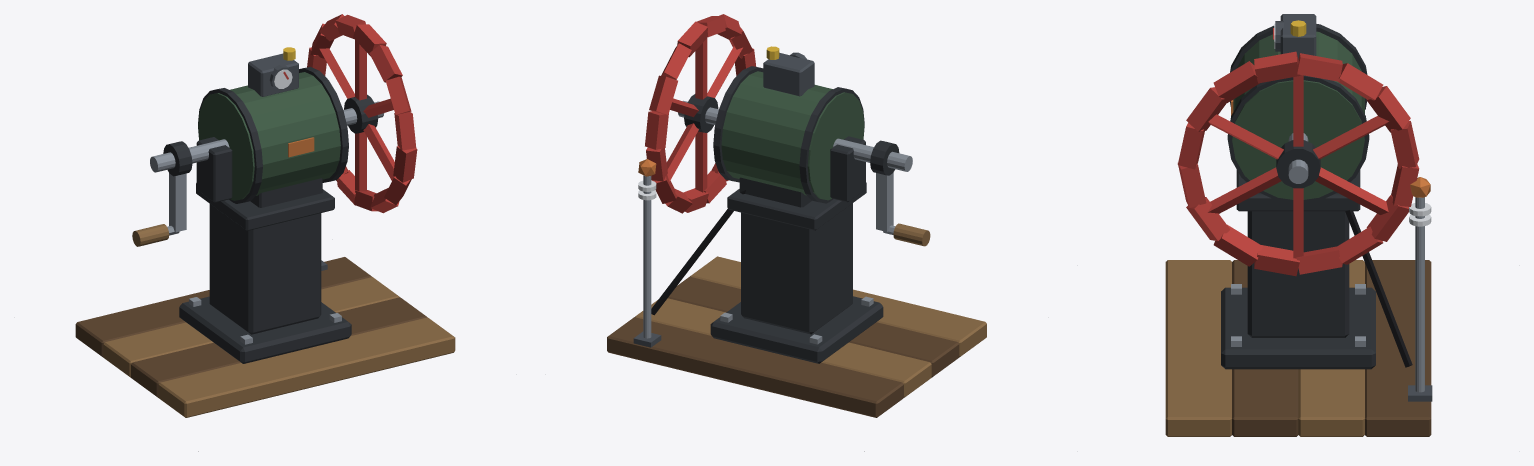
File: manivelle_reamorcage.glb
3 views of the same model, side by side, from view 1: azimuth 30°, elevation 25°; view 2: azimuth 150°, elevation 25°; view 3: azimuth 270°, elevation 25° (orthographic). The views are drawn at different scales.
Parts seen in each view (by area): view 1: pieces_fonte.012, pieces_bois.002, dynamo.002, manivelle_rouge.002, pieces_bois_sombre.004, manivelle_acier.002, manivelle_fonte.002, pieces_acier_sombre.016, manivelle_bois.002; view 2: pieces_fonte.012, pieces_bois_sombre.004, dynamo.002, manivelle_rouge.002, pieces_bois.002, manivelle_acier.002, pieces_acier_sombre.016, pieces_acier.018, manivelle_fonte.002, pieces_noir.014, manivelle_bois.002; view 3: pieces_fonte.012, manivelle_rouge.002, pieces_bois.002, pieces_bois_sombre.004, dynamo.002, pieces_acier.018, pieces_acier_sombre.016, manivelle_fonte.002, pieces_noir.014, manivelle_acier.002, pieces_blanc.018.
Boxes of the visible parts, x1,y1,x2,y2 form: pieces_fonte.012: [179, 67, 351, 363]; pieces_bois.002: [103, 277, 455, 417]; dynamo.002: [198, 72, 340, 200]; manivelle_rouge.002: [307, 14, 417, 213]; pieces_bois_sombre.004: [75, 257, 427, 397]; manivelle_acier.002: [150, 101, 384, 235]; manivelle_fonte.002: [163, 94, 378, 176]; pieces_acier_sombre.016: [248, 53, 327, 270]; manivelle_bois.002: [132, 224, 169, 246]; pieces_fonte.012: [710, 66, 883, 363]; pieces_bois_sombre.004: [607, 276, 959, 417]; dynamo.002: [721, 71, 864, 200]; manivelle_rouge.002: [645, 14, 756, 213]; pieces_bois.002: [635, 256, 986, 397]; manivelle_acier.002: [678, 100, 912, 234]; pieces_acier_sombre.016: [633, 52, 814, 347]; pieces_acier.018: [643, 175, 873, 344]; manivelle_fonte.002: [684, 94, 899, 175]; pieces_noir.014: [651, 190, 745, 315]; manivelle_bois.002: [893, 223, 930, 246]; pieces_fonte.012: [1221, 24, 1375, 369]; manivelle_rouge.002: [1177, 51, 1419, 276]; pieces_bois.002: [1165, 260, 1364, 436]; pieces_bois_sombre.004: [1232, 260, 1431, 436]; dynamo.002: [1232, 31, 1364, 199]; pieces_acier.018: [1231, 197, 1424, 392]; pieces_acier_sombre.016: [1280, 14, 1432, 401]; manivelle_fonte.002: [1276, 140, 1320, 188]; pieces_noir.014: [1345, 210, 1412, 367]; manivelle_acier.002: [1288, 133, 1308, 183]; pieces_blanc.018: [1274, 23, 1431, 226].
Size of the model in its own units: 1 by 0.8981 by 1.
